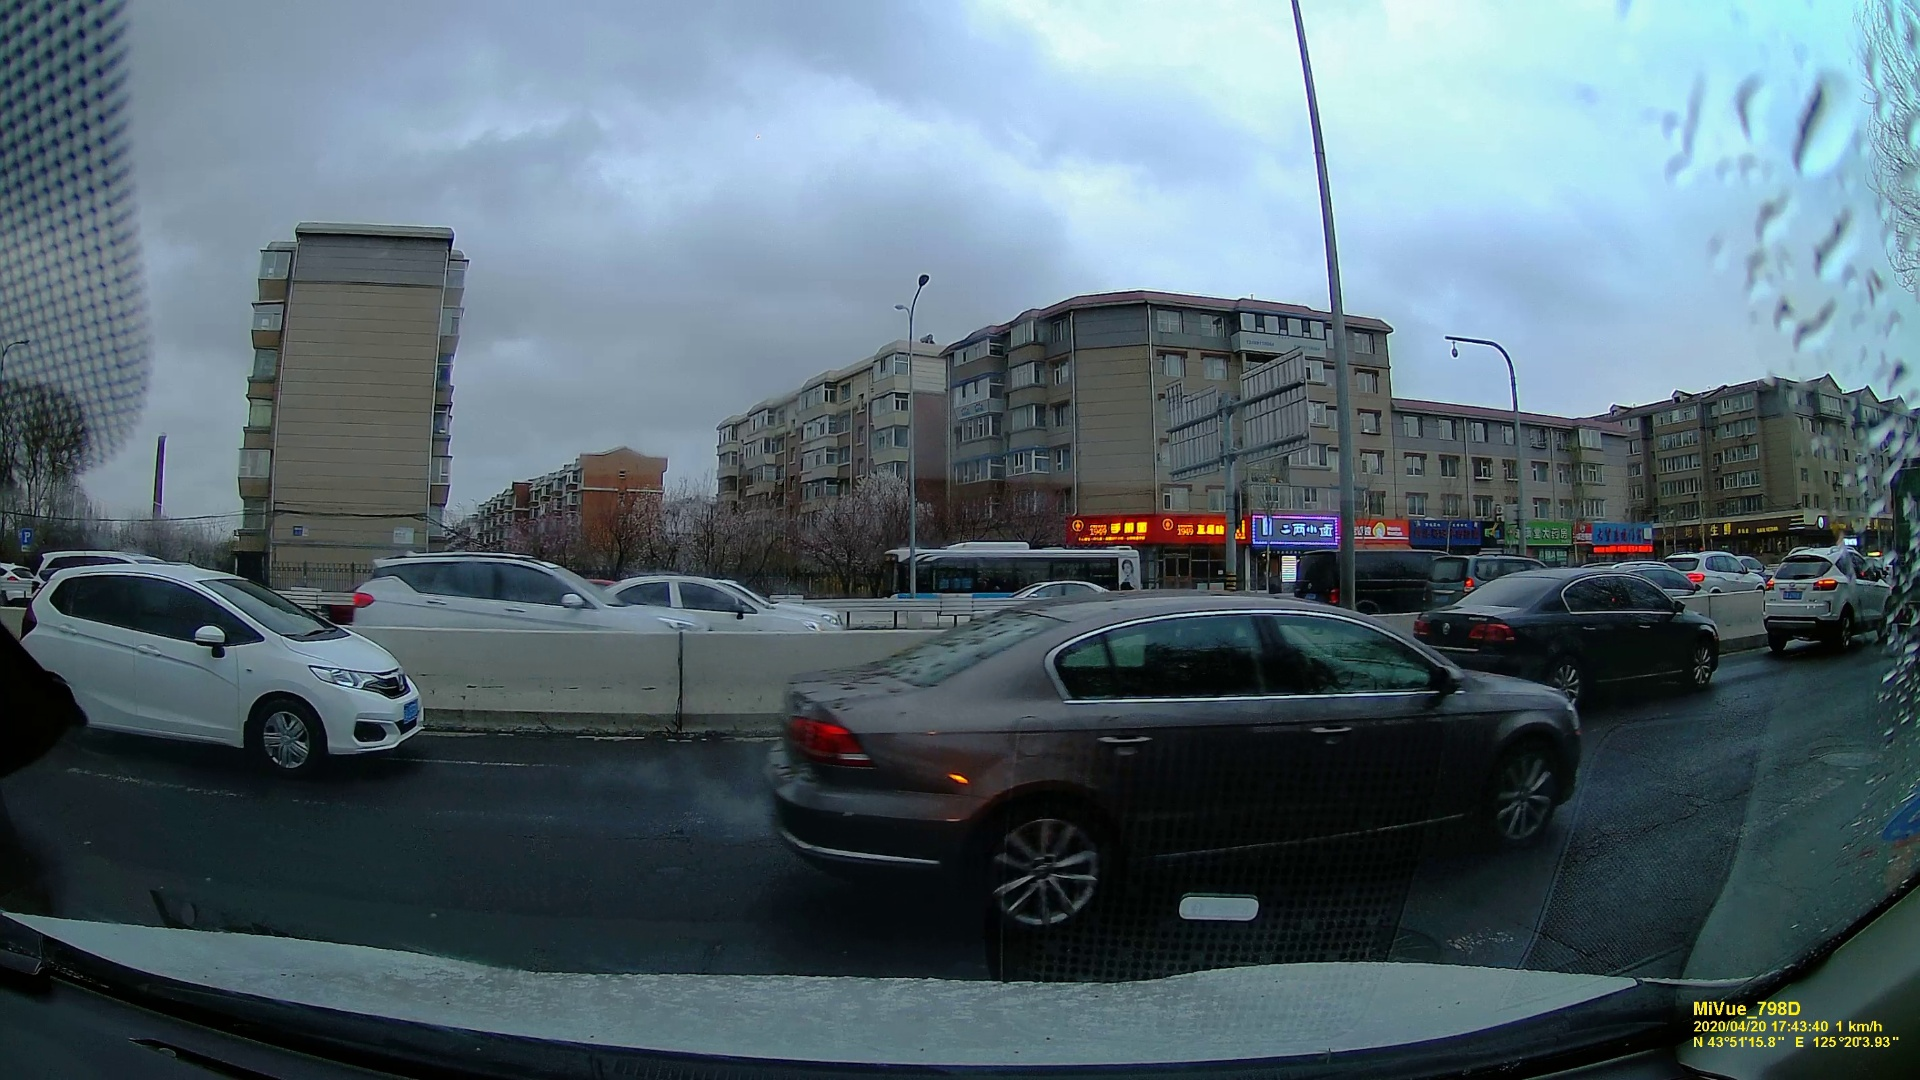bus: (880, 543, 1146, 599), (1296, 549, 1423, 615)
minibus: (1423, 553, 1485, 608)
vehicle: (760, 593, 1600, 919), (18, 562, 417, 771), (1432, 568, 1726, 695), (357, 549, 647, 641), (587, 568, 845, 647), (1756, 547, 1888, 650), (1671, 551, 1766, 593), (1011, 582, 1121, 607)
